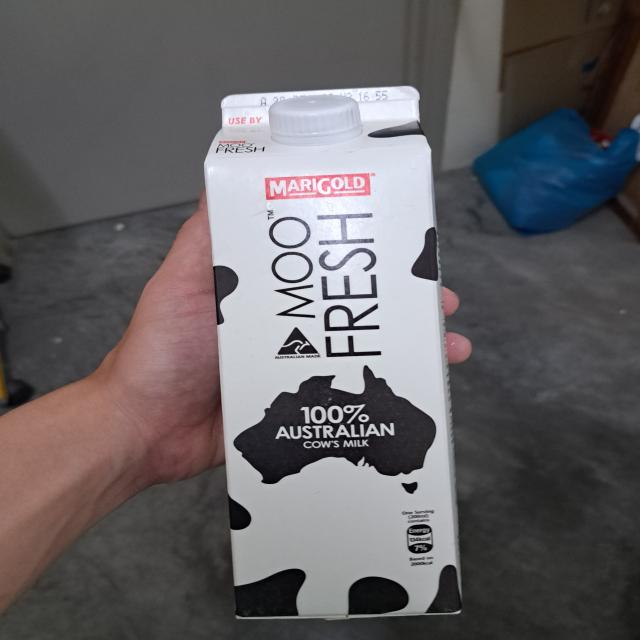drink carton: (204, 85, 465, 619)
plastic bottle cap: (268, 92, 365, 144)
